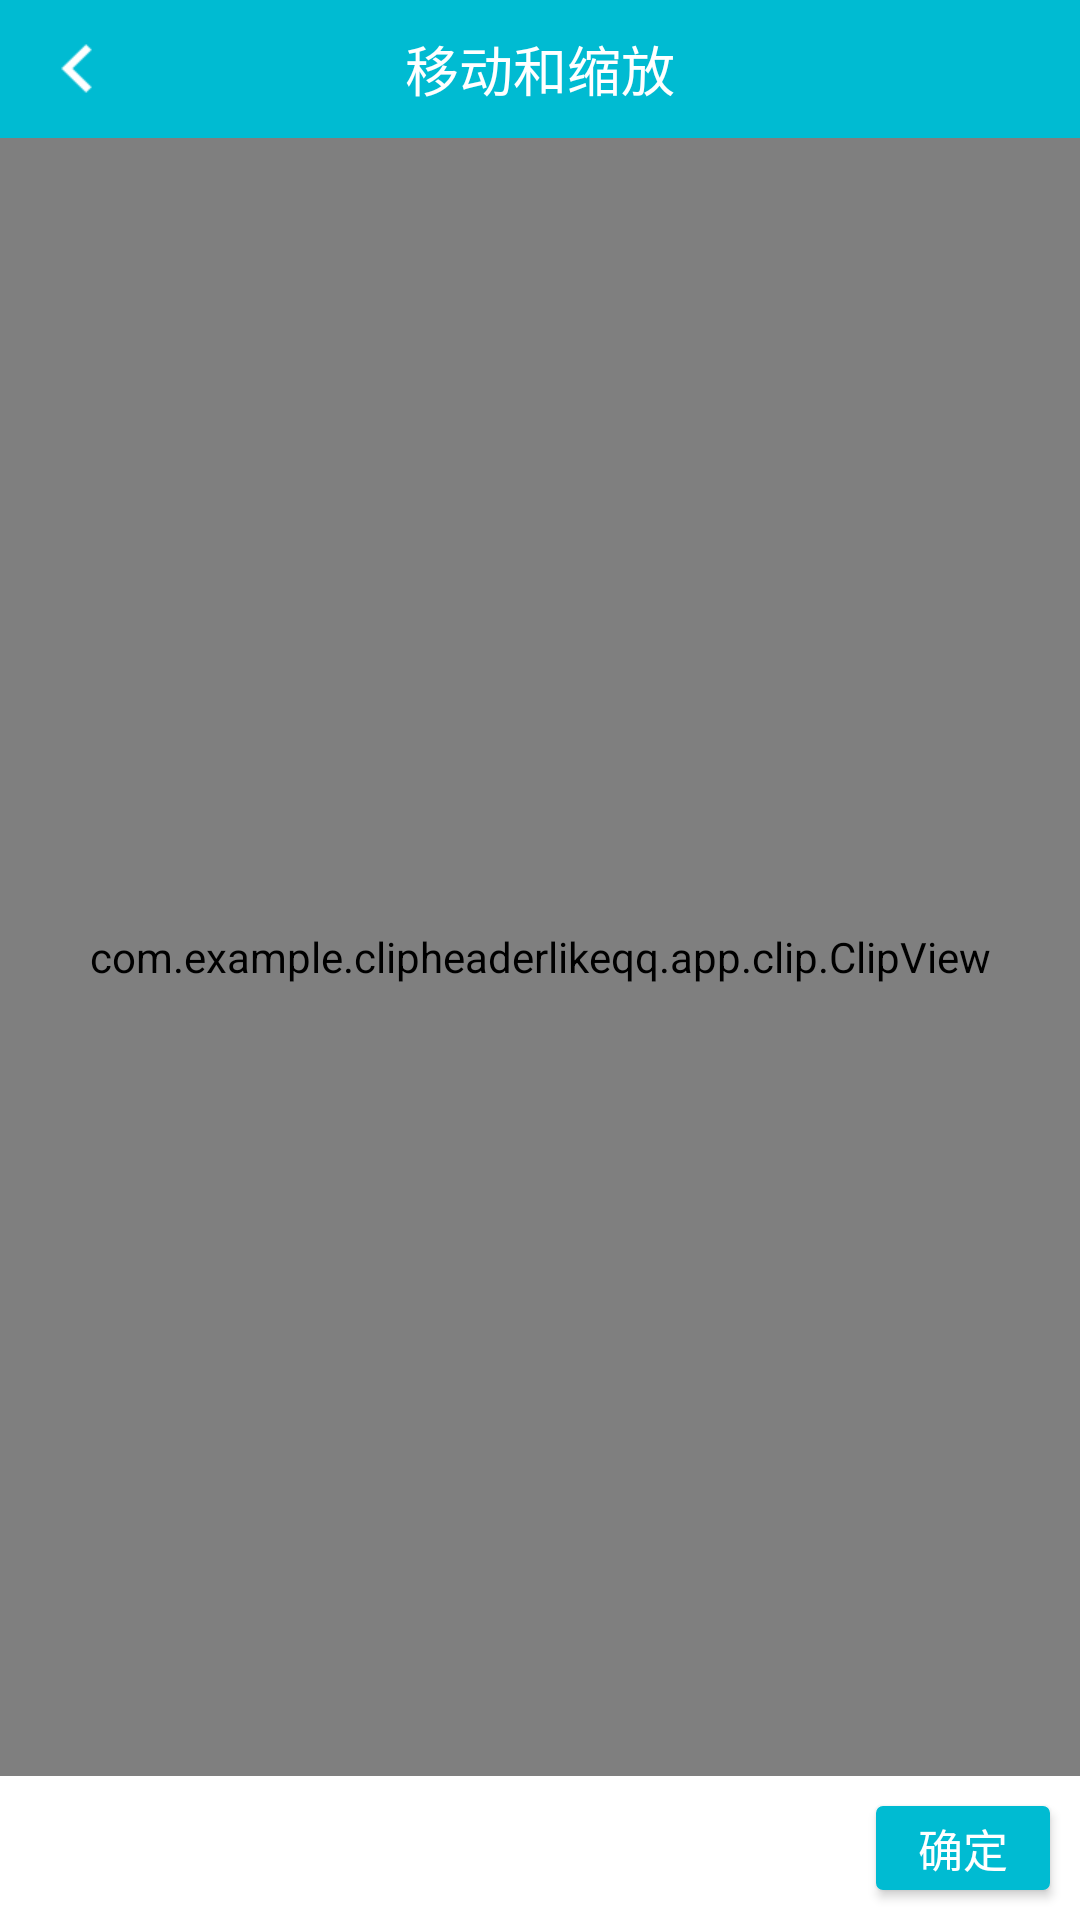

Icon bounding boxes for this 1080px×1920px phone screenshot, format bbox=(x1, y1, x2, y2):
return topleft: bbox=(61, 44, 92, 93)
